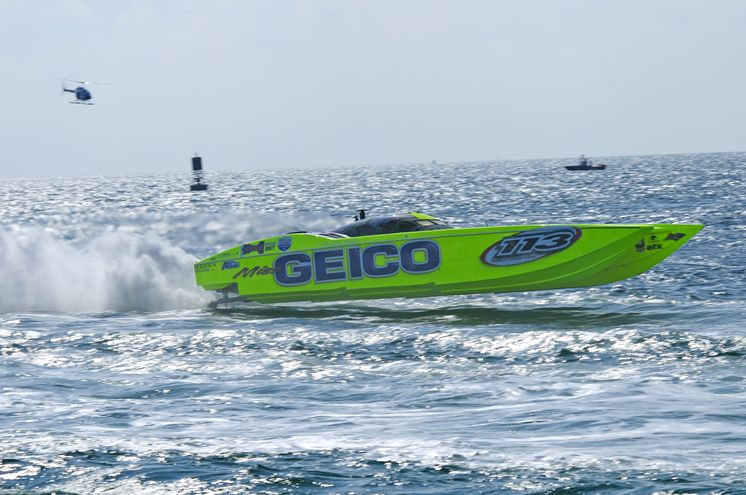Geico: (270, 239, 442, 284)
